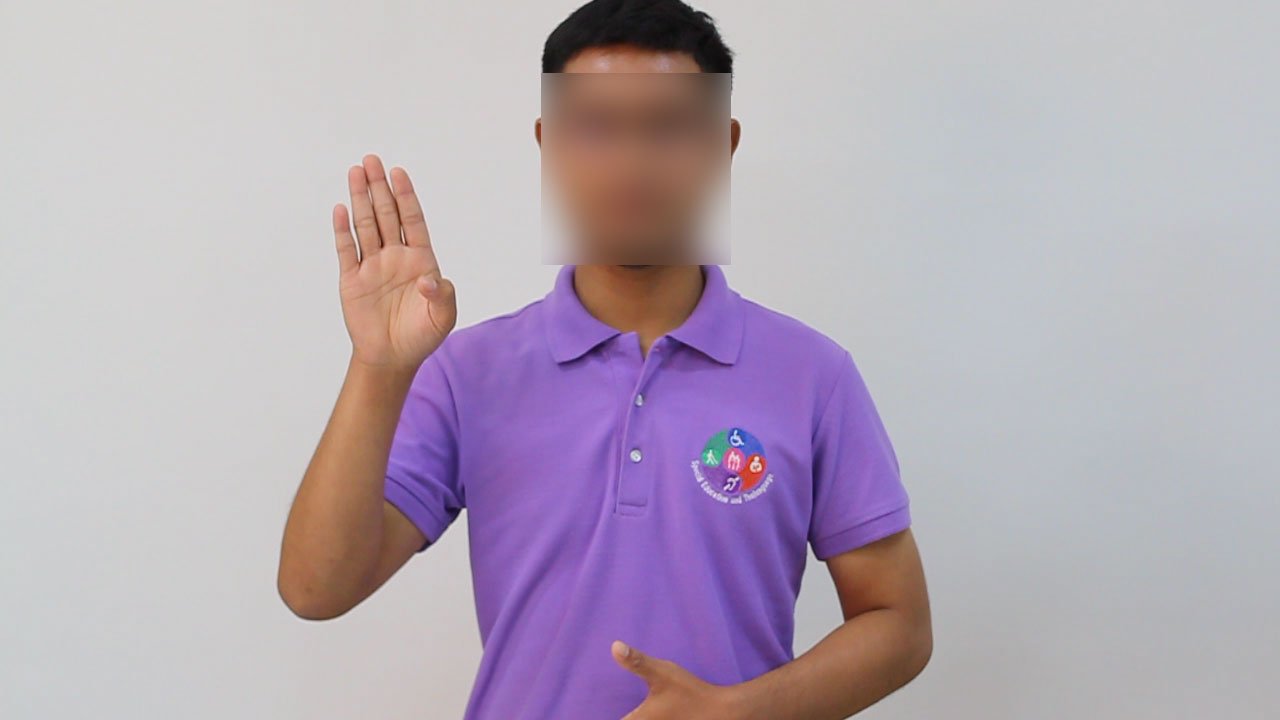bor: (321, 139, 473, 394)
